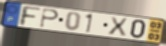0: (129, 19, 148, 39), (65, 12, 83, 33)
1: (84, 13, 95, 34)
F: (20, 4, 43, 27)
P: (39, 8, 60, 29)
X: (107, 16, 129, 37)
